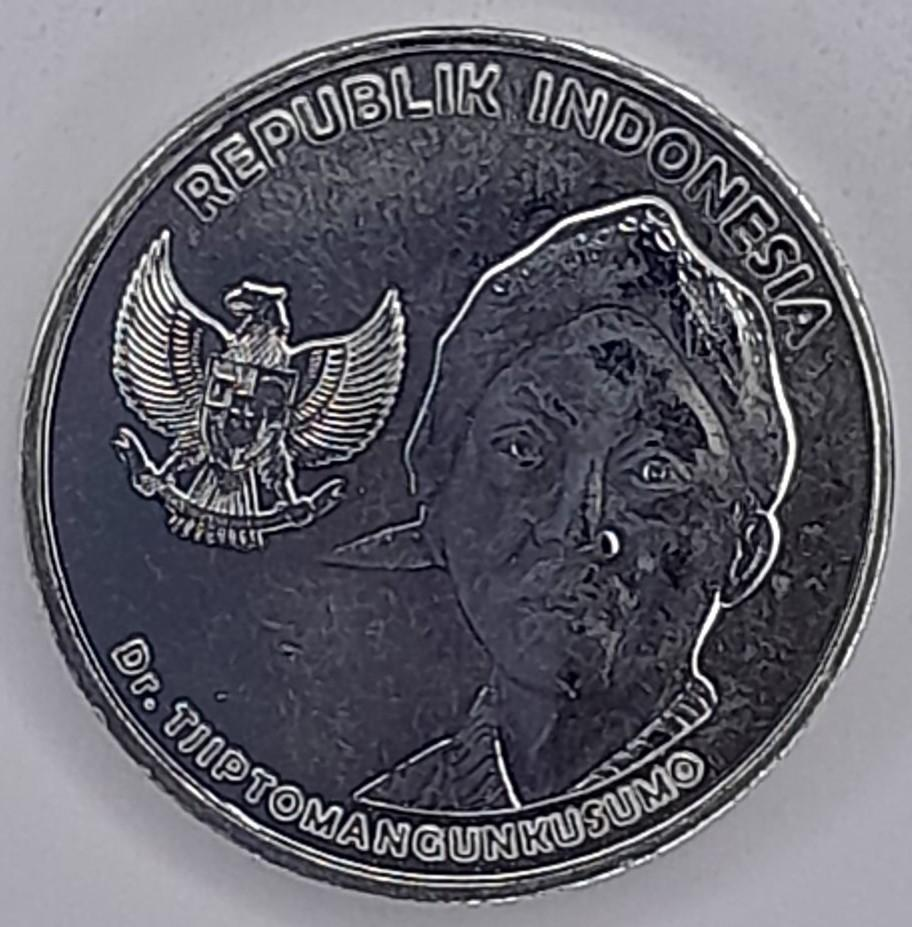coin_200_e2016: (0, 16, 912, 927)
